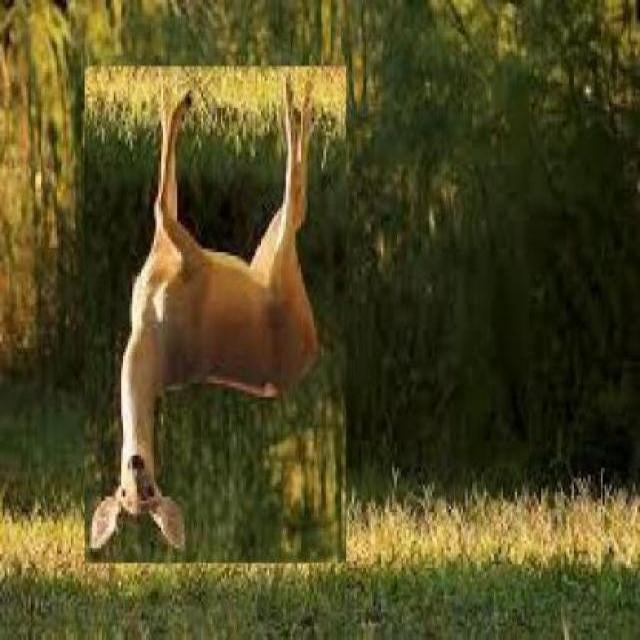deer: (85, 66, 348, 565)
